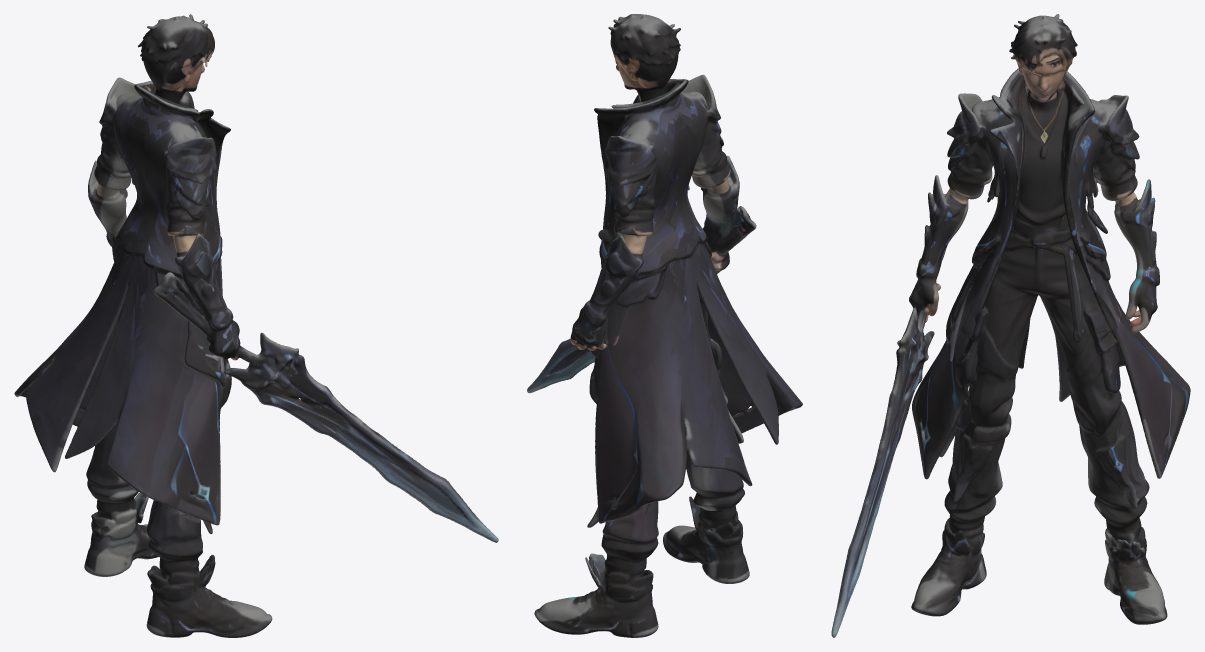
The model's file is fantasy character 3d model.glb.
The picture shows the model from 3 angles, left to right: view 1: azimuth 30°, elevation 25°; view 2: azimuth 150°, elevation 25°; view 3: azimuth 270°, elevation 25°; orthographic projection. The views are drawn at different scales.
Visible parts, largest first — view 1: tripo_node_73496432-fa35-4449-a2f9-8015cd008d6b; view 2: tripo_node_73496432-fa35-4449-a2f9-8015cd008d6b; view 3: tripo_node_73496432-fa35-4449-a2f9-8015cd008d6b.
Part boxes in pixels (x1,y1,x2,y2): tripo_node_73496432-fa35-4449-a2f9-8015cd008d6b: (14, 14, 498, 637); tripo_node_73496432-fa35-4449-a2f9-8015cd008d6b: (527, 14, 802, 637); tripo_node_73496432-fa35-4449-a2f9-8015cd008d6b: (831, 14, 1190, 637).
Bounding box in the file's own units: 0.6185 × 1 × 0.5522.
1 material, 1 textured.
